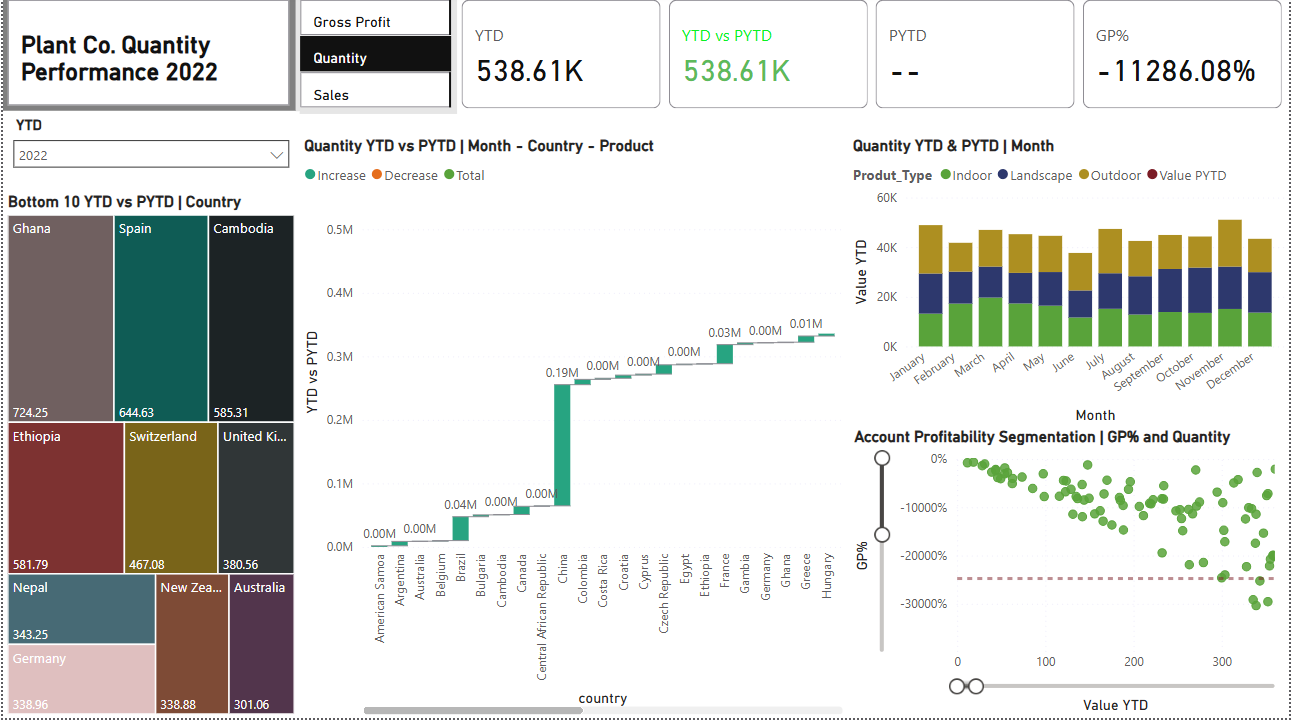

This screenshot's page, from the dashboard's own definition file:
{"tool":"powerbi","page":{"name":"Page 1","canvas":[1280,720],"ordinal":0},"visuals":[{"type":"cardVisual","fields":{"Data":["_Measures.S_YTD","_Measures.YTD vs PYTD","_Measures.S_PYTD","_Measures.GP%"]},"box":[451.5,0,828.8,118],"z":0},{"type":"advancedSlicerVisual","fields":{"Values":["Slc_Values.Values"]},"box":[290.9,0,160.5,118],"z":1},{"type":"slicer","fields":{"Values":["Dim_Date.Date.Variation.Date Hierarchy.Year"]},"box":[0,115.3,295,81],"z":3},{"type":"treemap","title":"Bottom 10 YTD vs PYTD | Country","fields":{"Group":["Dim_Account.country"],"Values":["_Measures.YTD vs PYTD"]},"box":[0,196.2,295,524.2],"z":4},{"type":"waterfallChart","fields":{"Y":["_Measures.YTD vs PYTD"],"Category":["Dim_Date.Date.Variation.Date Hierarchy.Month","Dim_Account.country","Dim_Product.Produt_Type","Dim_Product.Product_Name"]},"box":[295,140,546.1,580.4],"z":5},{"type":"lineStackedColumnComboChart","fields":{"Y":["_Measures.S_YTD"],"Y2":["_Measures.S_PYTD"],"Category":["Dim_Date.Date.Variation.Date Hierarchy.Quarter","Dim_Date.Date.Variation.Date Hierarchy.Month"],"Series":["Dim_Product.Produt_Type"]},"box":[841.2,140,439.1,290.9],"z":6},{"type":"scatterChart","fields":{"Y":["_Measures.GP%"],"X":["_Measures.S_YTD"],"Category":["Dim_Account.Account"]},"box":[842,431,438,289],"z":7},{"type":"cardVisual","fields":{"Data":["_Measures._Report title"]},"box":[0,0,290.9,115.3],"z":8}]}

Visuals, with their boxes on the page's 1280x720 design canvas (x1, y1, x2, y2). These are canvas units, not pixel positions in the 1291x721 screenshot, which may show the page scaled, cropped or inside an application window:
cardVisual - _Measures.S_YTD x _Measures.YTD vs PYTD: locate(452, 0, 1280, 118)
advancedSlicerVisual - Slc_Values.Values: locate(291, 0, 451, 118)
slicer - Dim_Date.Date.Variation.Date Hierarchy.Year: locate(0, 115, 295, 196)
"Bottom 10 YTD vs PYTD | Country" treemap: locate(0, 196, 295, 720)
waterfallChart - _Measures.YTD vs PYTD x Dim_Date.Date.Variation.Date Hierarchy.Month: locate(295, 140, 841, 720)
lineStackedColumnComboChart - _Measures.S_YTD x _Measures.S_PYTD: locate(841, 140, 1280, 431)
scatterChart - _Measures.GP% x _Measures.S_YTD: locate(842, 431, 1280, 720)
cardVisual - _Measures._Report title: locate(0, 0, 291, 115)
